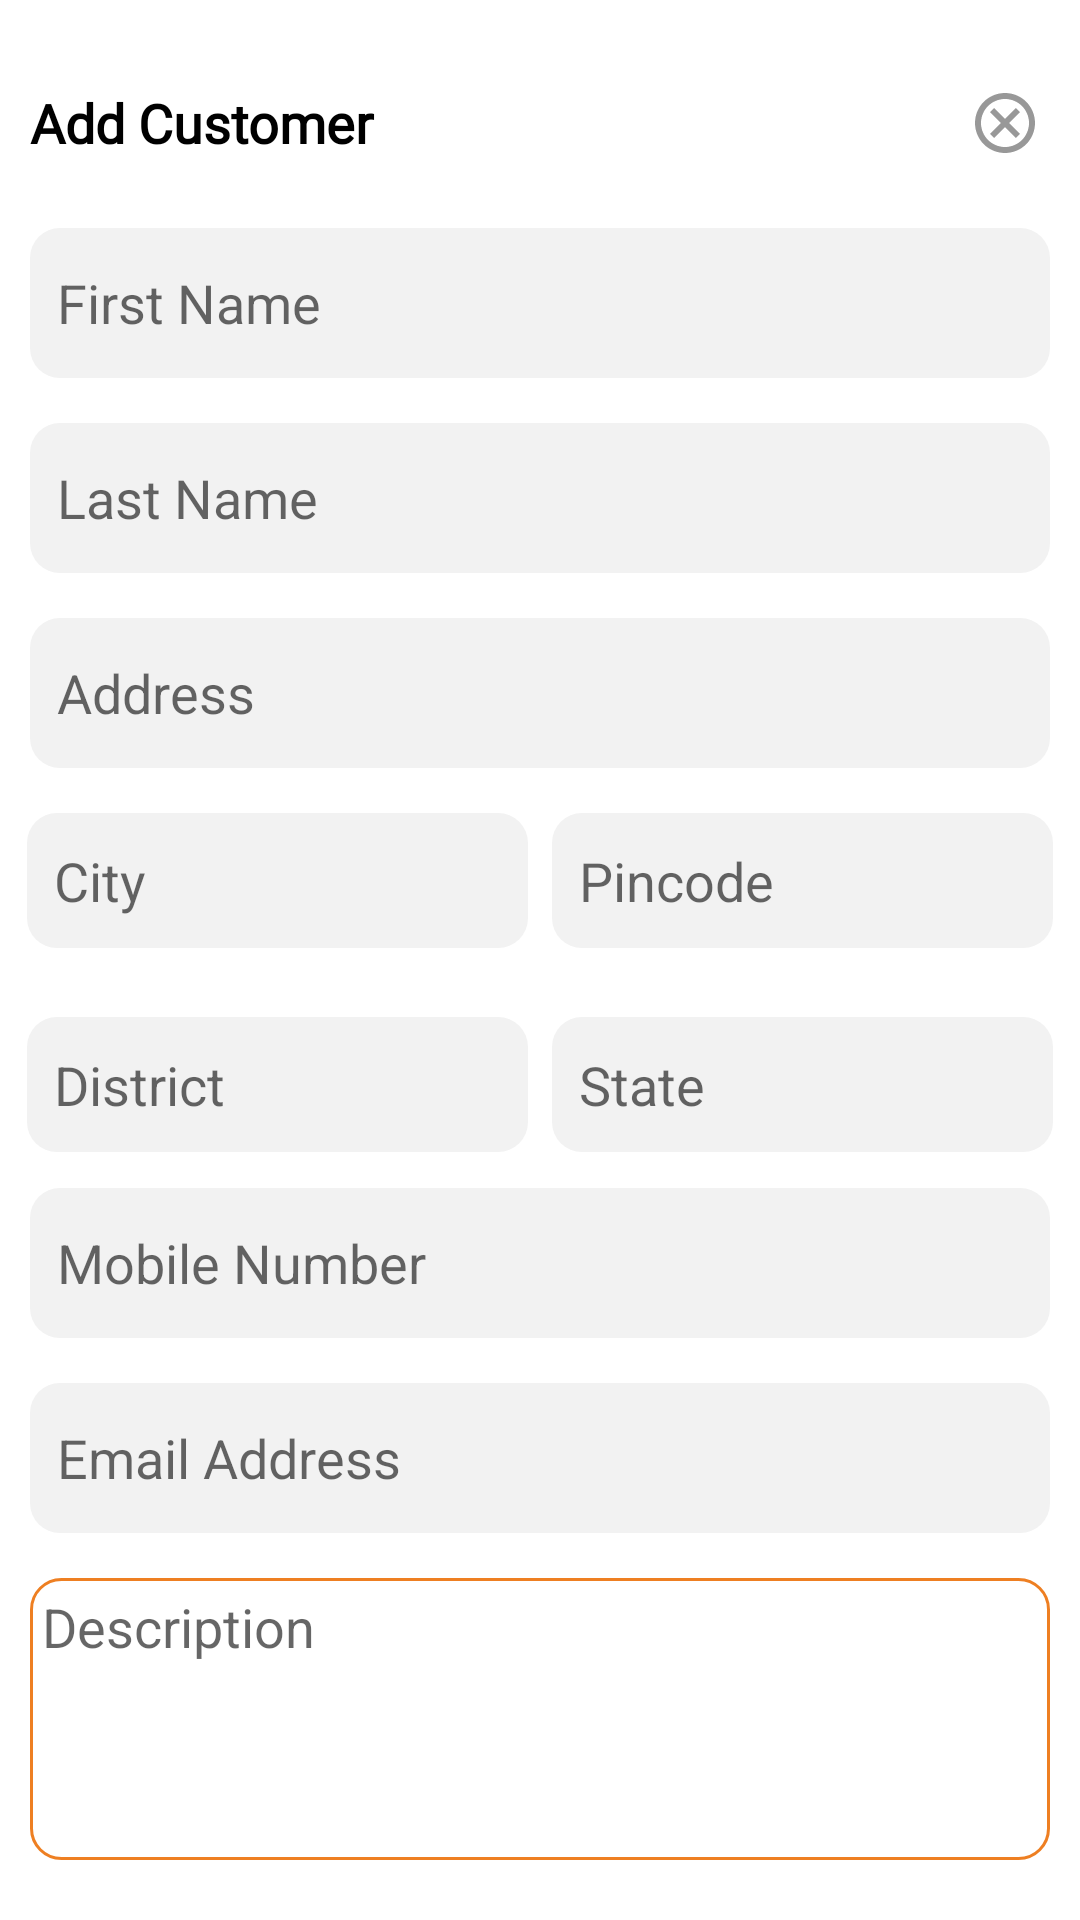

Icon bounding boxes for this 1080px x 1920px phone screenshot, format BBox(x1, y1, x2, y2):
cancel: BBox(975, 93, 1035, 153)
